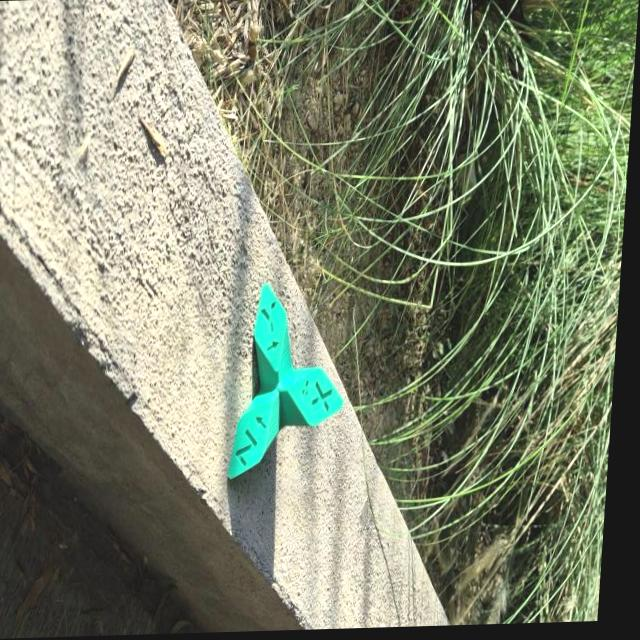eje: (224, 277, 353, 483)
